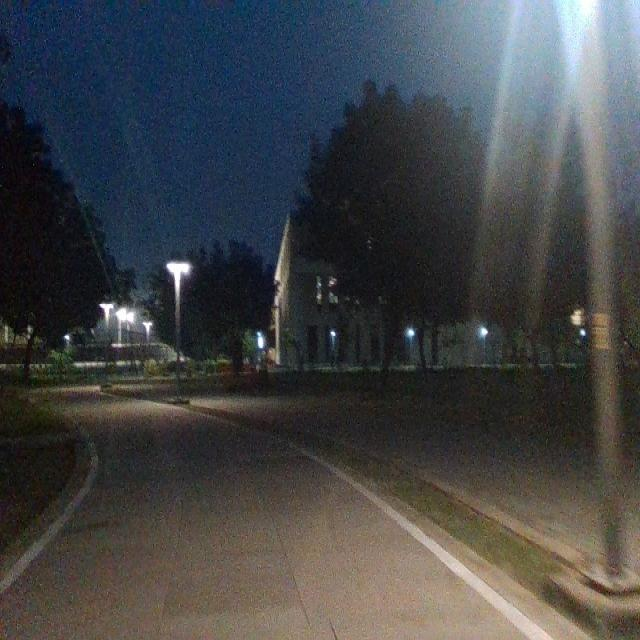lane: (0, 392, 531, 640)
